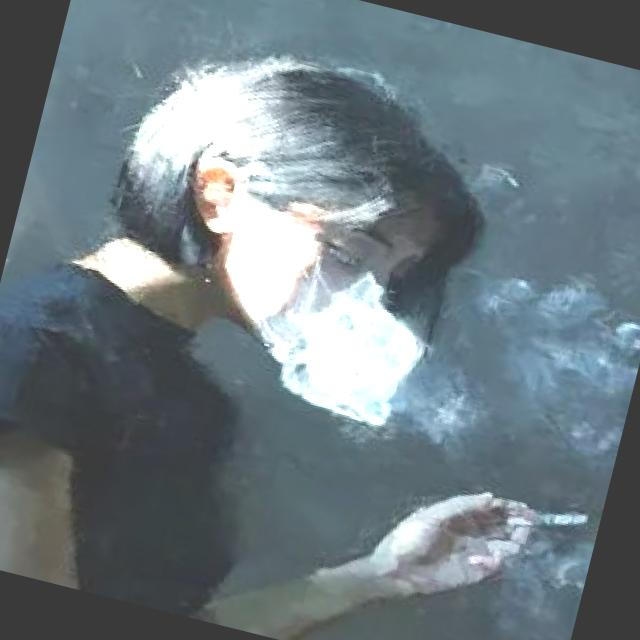cigarette: (492, 489, 586, 545)
